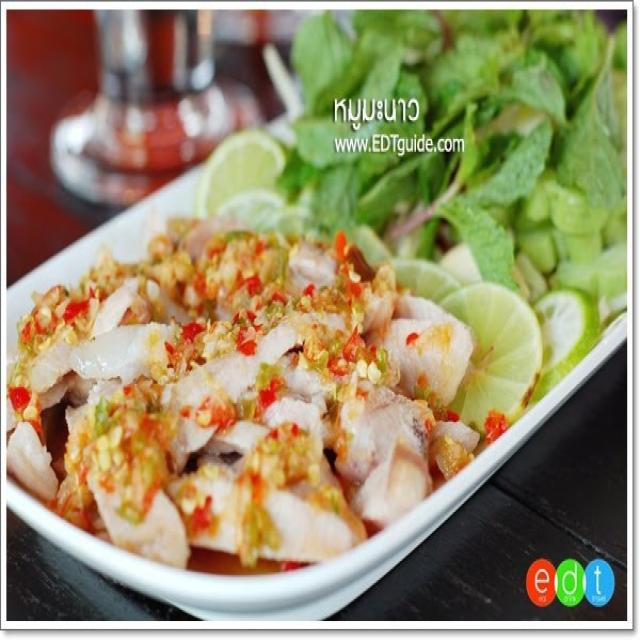猪肉菜式: (16, 36, 609, 586)
